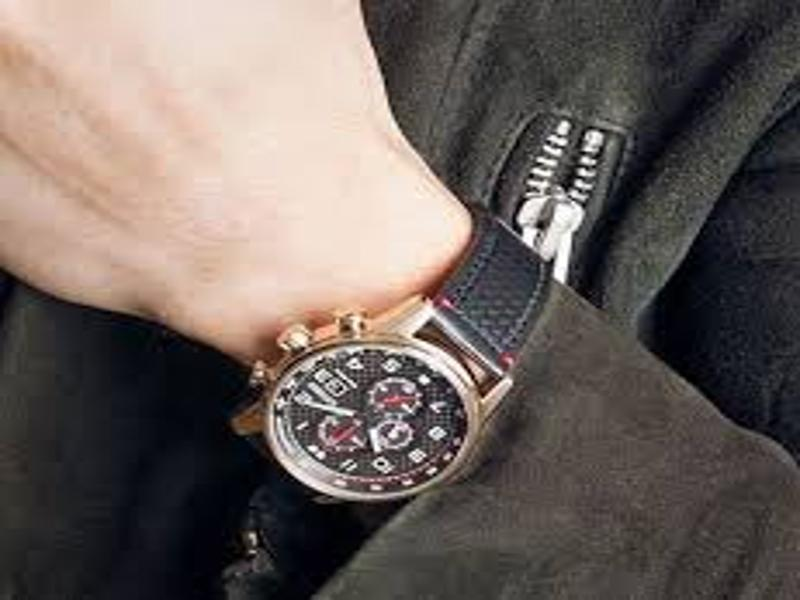watch: (234, 209, 554, 505)
